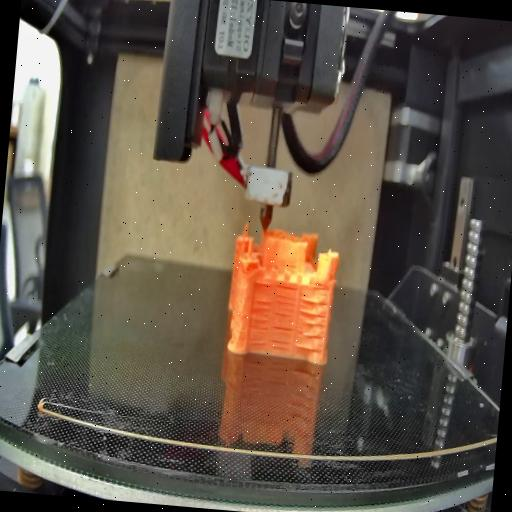cracks: (296, 297, 329, 351), (246, 298, 270, 346), (273, 283, 300, 319), (270, 324, 294, 352), (254, 279, 272, 290)
